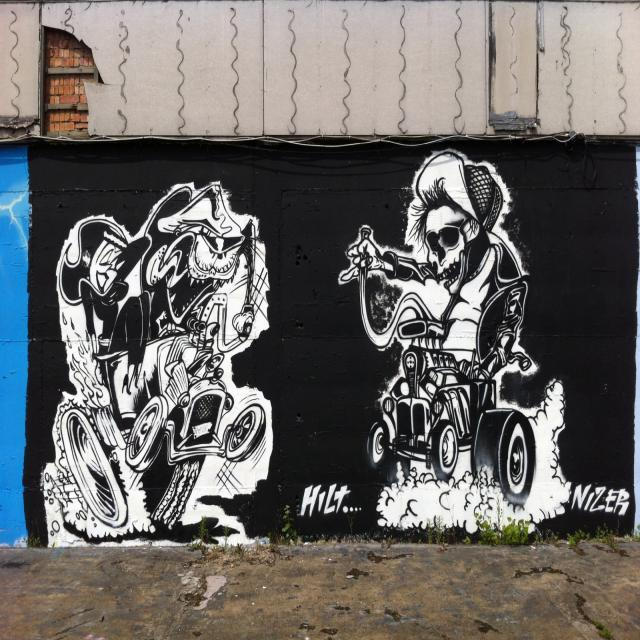-: (334, 150, 630, 532), (42, 184, 272, 546), (298, 482, 362, 516)
